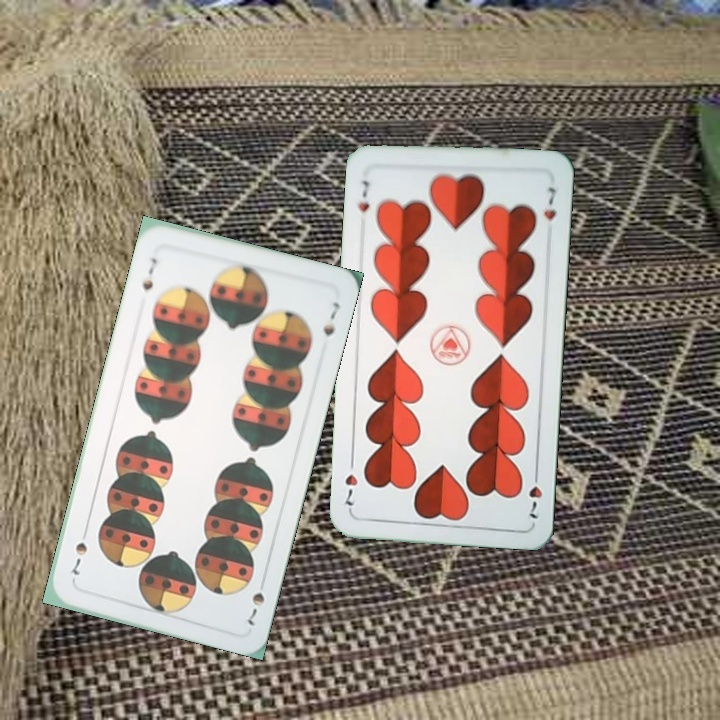H7: (525, 465, 545, 521), (353, 176, 372, 214)
S7: (243, 572, 269, 629), (138, 253, 160, 294)
